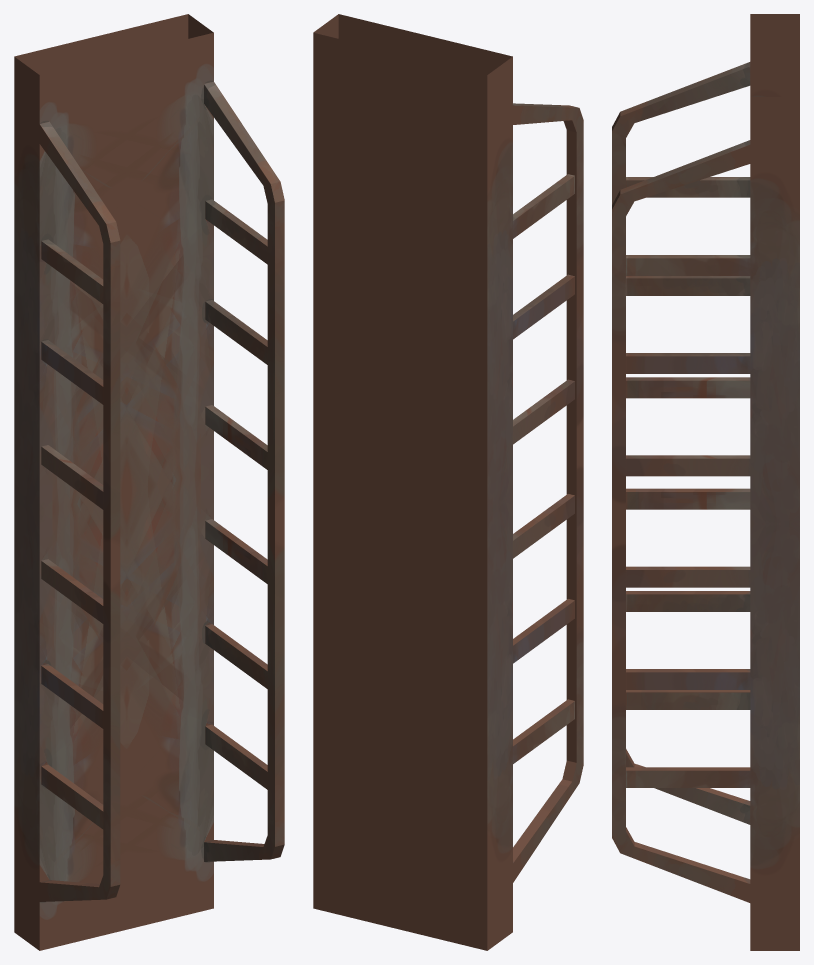
Rendered from bridge.glb.
3 renders of one model, left to right at view 1: azimuth 30°, elevation 25°; view 2: azimuth 150°, elevation 25°; view 3: azimuth 270°, elevation 25°, orthographic. The views are drawn at different scales.
Parts seen in each view (by area): view 1: bridge; view 2: bridge; view 3: bridge.
Boxes of the visible parts, bbox=[...] form: bridge: bbox=[14, 14, 284, 950]; bridge: bbox=[313, 14, 583, 950]; bridge: bbox=[612, 14, 799, 950].
Bounding box in the file's own units: 7.9 × 37.93 × 7.57.
Materials: 1 (1 with a texture image).
